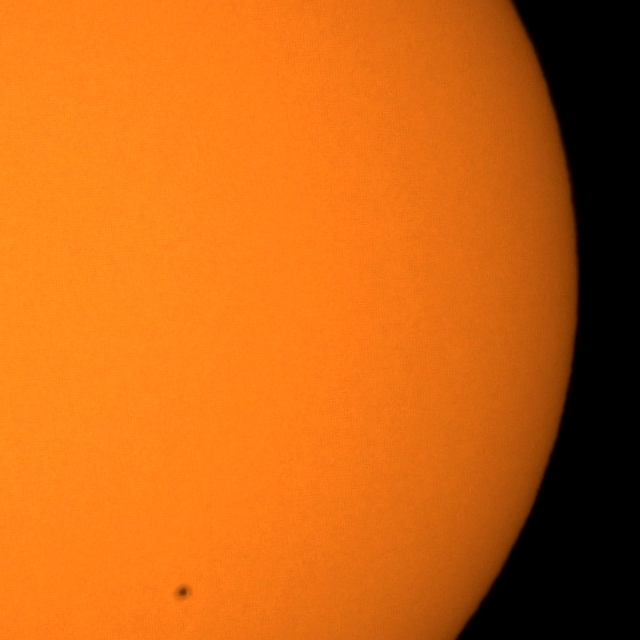sunspot: (172, 582, 195, 604)
